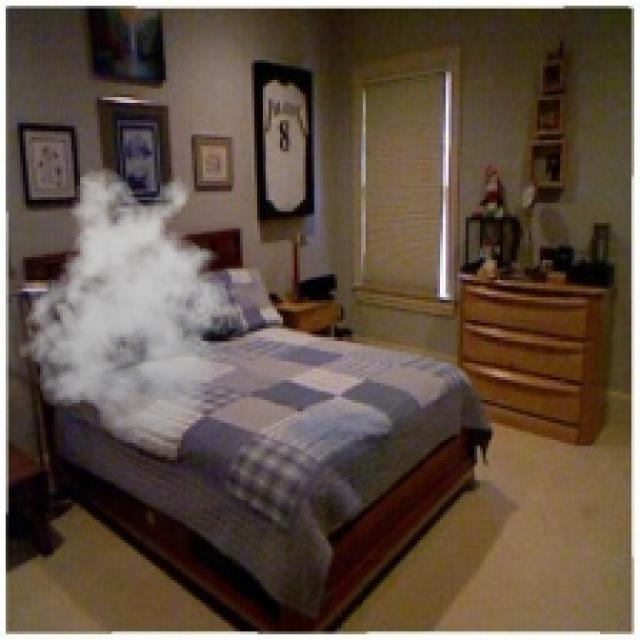smoke: (12, 166, 255, 446)
